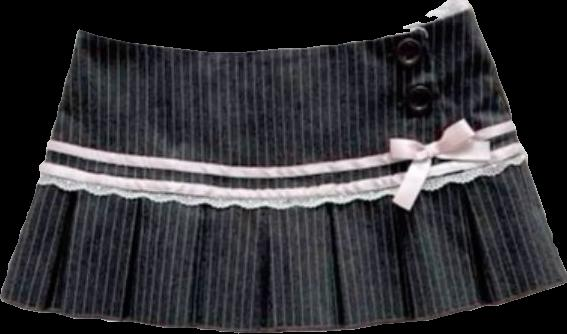Hemline: (0, 277, 566, 333)
Waistline: (38, 148, 526, 199), (79, 5, 473, 54)
